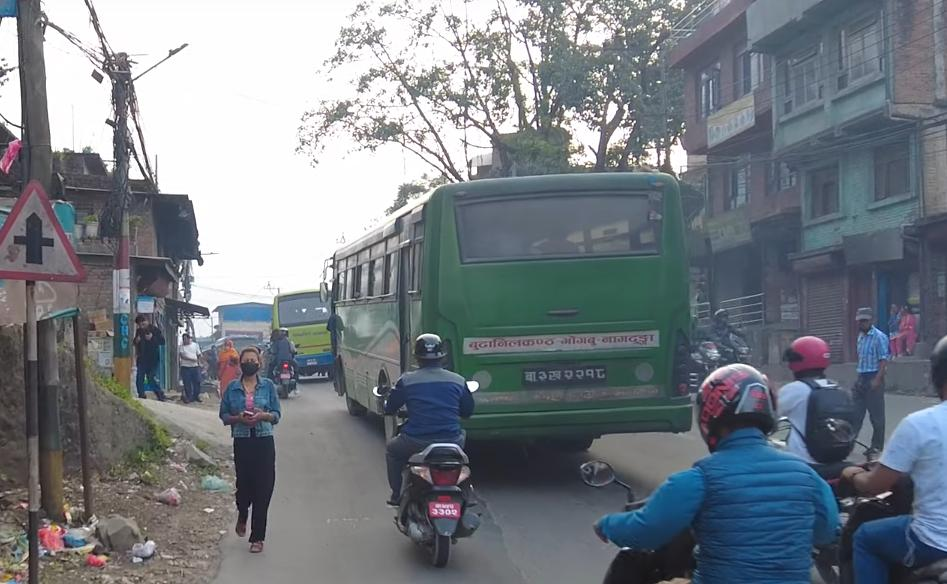bus: (321, 160, 701, 444), (275, 285, 350, 381)
scooter: (369, 375, 484, 572)
